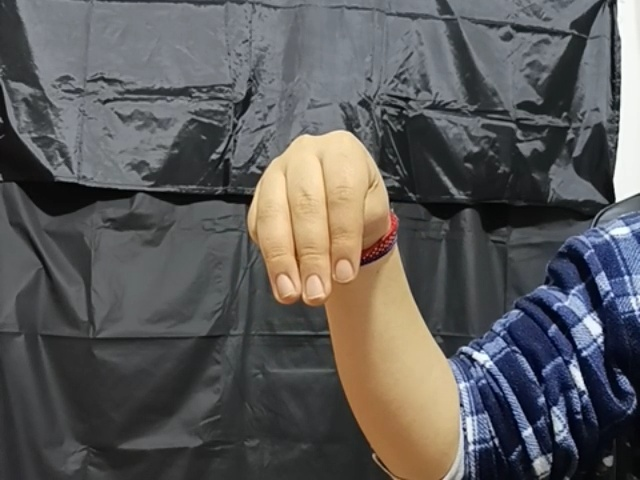M: (250, 128, 418, 304)
